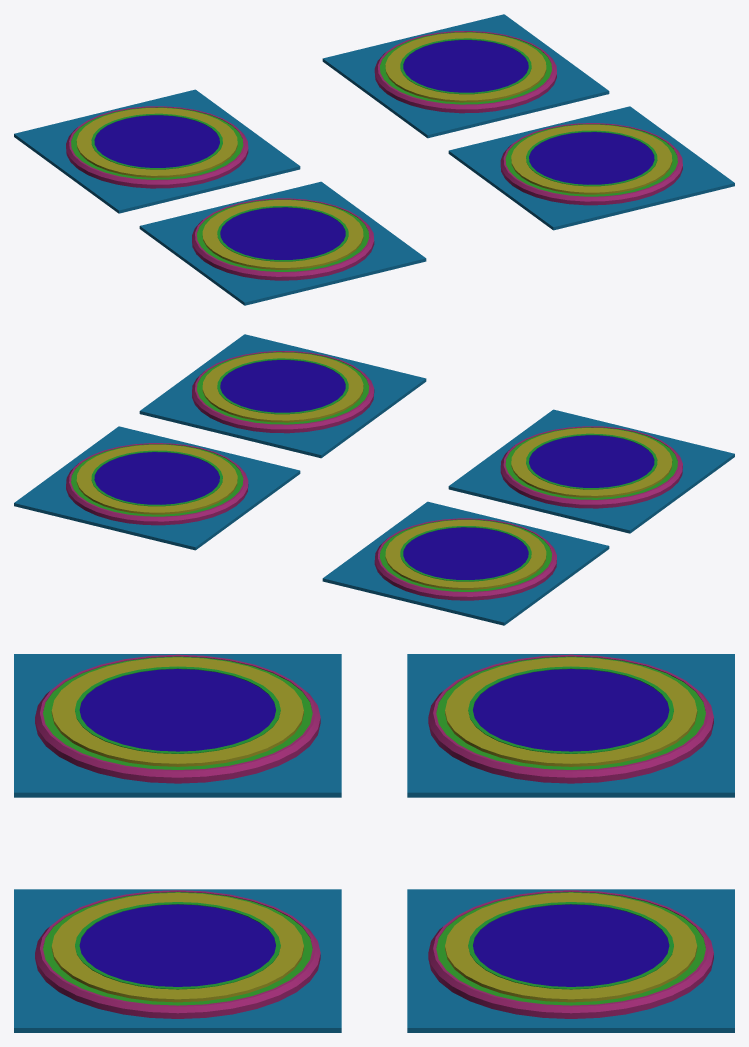
Rendered from Landing_Pad.fbx.
The picture shows the model from 3 angles, top to bottom: view 1: azimuth 30°, elevation 25°; view 2: azimuth 150°, elevation 25°; view 3: azimuth 270°, elevation 25°; orthographic projection. The views are drawn at different scales.
Parts seen in each view (by area): view 1: Landing_Pads, Landing_Pads.001, Landing_Pads.002, Landing_Pads.003; view 2: Landing_Pads.002, Landing_Pads.003, Landing_Pads, Landing_Pads.001; view 3: Landing_Pads, Landing_Pads.001, Landing_Pads.002, Landing_Pads.003.
Part boxes in pixels (left/top/right/bottom): Landing_Pads: left=322, top=14, right=609, bottom=138; Landing_Pads.001: left=139, top=181, right=426, bottom=305; Landing_Pads.002: left=14, top=89, right=300, bottom=213; Landing_Pads.003: left=448, top=106, right=734, bottom=230; Landing_Pads.002: left=322, top=501, right=609, bottom=625; Landing_Pads.003: left=139, top=334, right=426, bottom=458; Landing_Pads: left=14, top=426, right=300, bottom=550; Landing_Pads.001: left=448, top=409, right=734, bottom=533; Landing_Pads: left=407, top=889, right=734, bottom=1032; Landing_Pads.001: left=14, top=654, right=341, bottom=797; Landing_Pads.002: left=407, top=654, right=734, bottom=797; Landing_Pads.003: left=14, top=889, right=341, bottom=1032.
Size of the model in its own units: 5309 by 121 by 4326.
